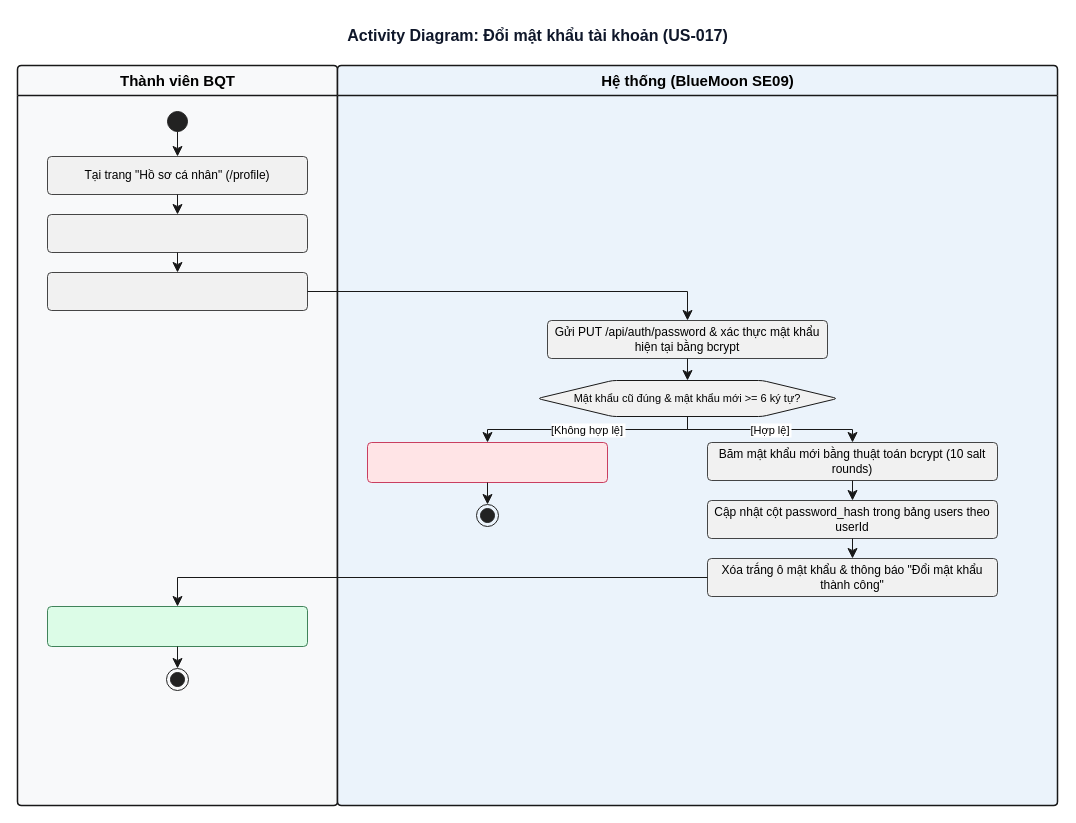
This 1076x823 diagram has some shape labels left out. Each missing label, with the centre of its shape:
Bấm nút "Đổi mật khẩu": the point at 177,291
Nhập Mật khẩu hiện tại & Mật khẩu mới (>= 6 ký tự): the point at 177,233
Sử dụng mật khẩu mới cho lần đăng nhập tiếp theo: the point at 177,626
Trả về HTTP 400/401 & hiển thị lỗi sai mật khẩu hiện tại: the point at 487,462
